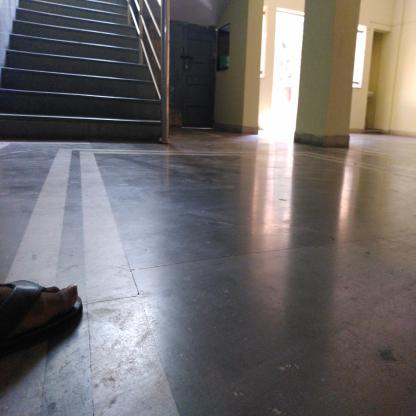stairs: (17, 4, 126, 148)
